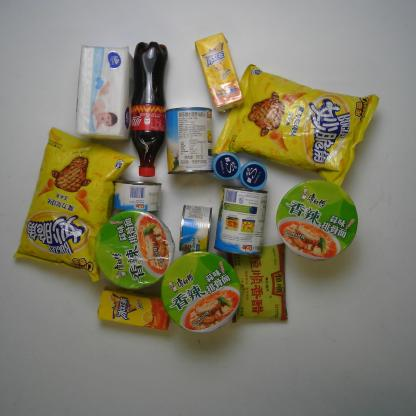Canned Food: (213, 184, 269, 260), (163, 105, 217, 176), (108, 176, 164, 216), (177, 202, 216, 254)
Drink: (125, 37, 173, 180), (193, 30, 247, 114), (91, 284, 174, 334)
Gum: (235, 160, 268, 192), (211, 150, 242, 183)
Instant Noodles: (273, 176, 360, 264), (158, 248, 243, 336), (93, 207, 178, 292)
Puffed Food: (210, 60, 384, 194), (9, 124, 138, 286)
Seasoner: (220, 237, 291, 326)
Tissue: (73, 43, 137, 143)
